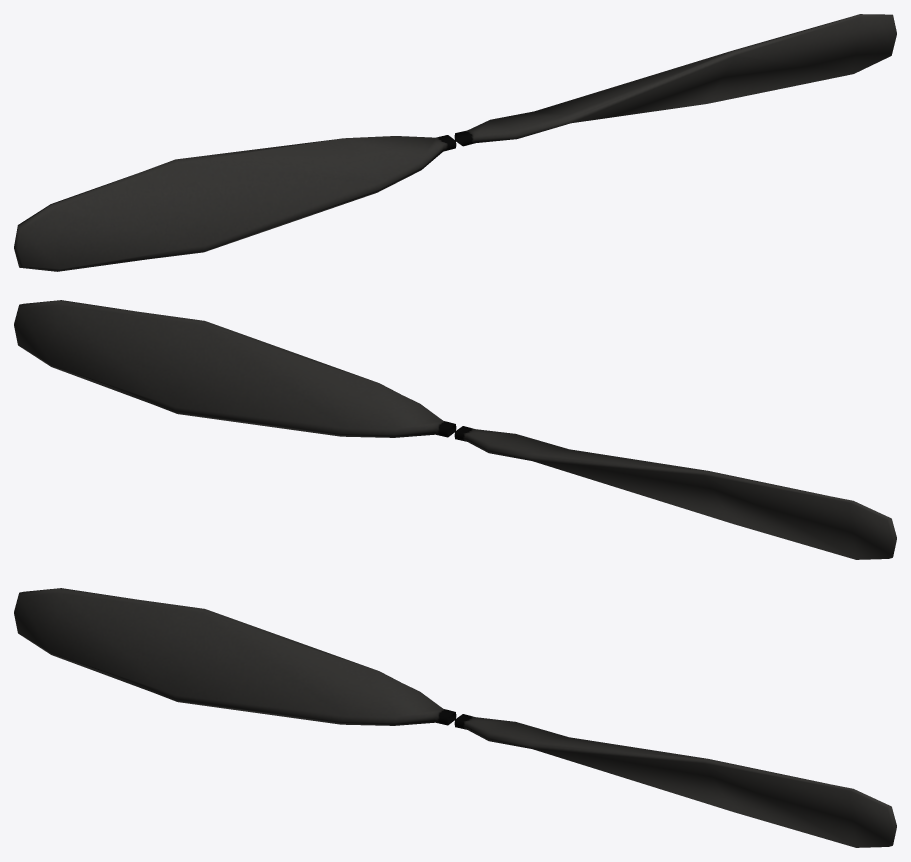
File: PalesArrieres.FBX
3 renders of one model, top to bottom at view 1: azimuth 30°, elevation 25°; view 2: azimuth 150°, elevation 25°; view 3: azimuth 330°, elevation 25°, orthographic.
Parts seen in each view (by area): view 1: PaleArrieres; view 2: PaleArrieres; view 3: PaleArrieres.
Part boxes in pixels (box(x1,y1,x2,y2)): PaleArrieres: box(14, 14, 896, 271); PaleArrieres: box(14, 300, 896, 559); PaleArrieres: box(14, 588, 896, 847).
Bounding box in the file's own units: 12.15 × 0.9556 × 0.9251.
